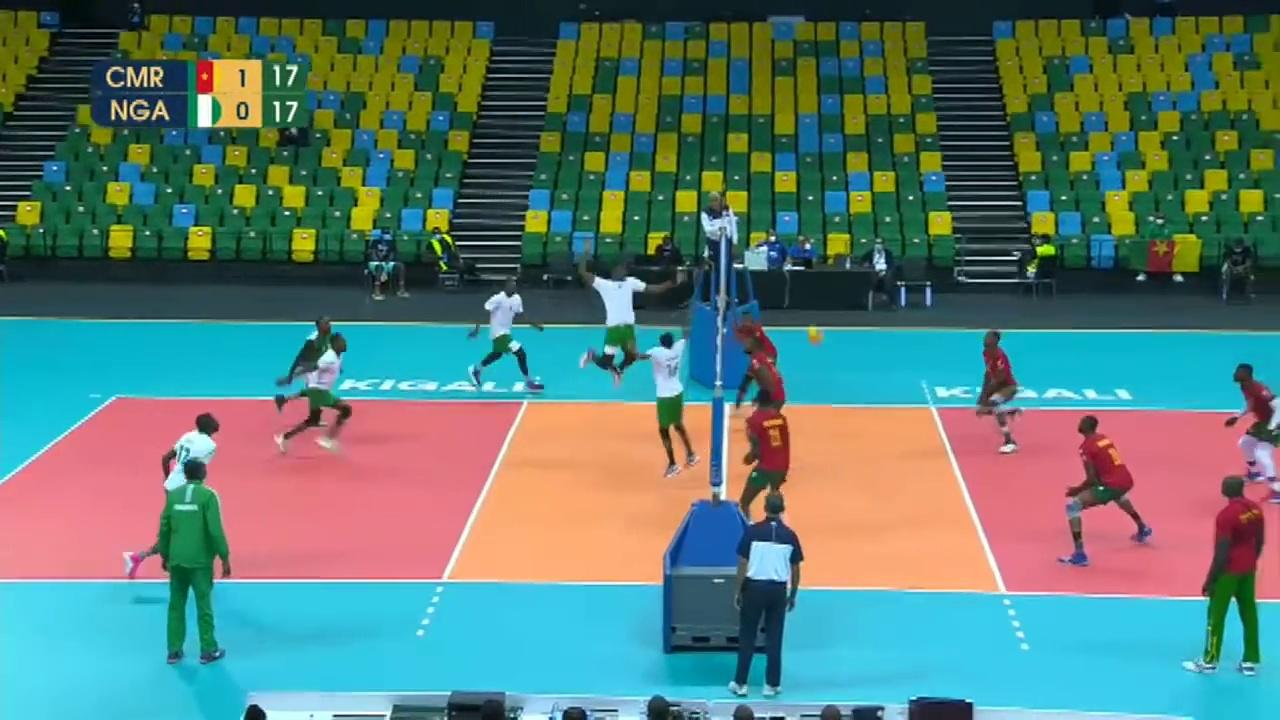player: (126, 412, 220, 581), (1059, 418, 1155, 560), (576, 244, 676, 379), (631, 332, 701, 478), (279, 334, 349, 457), (462, 281, 539, 392), (1226, 364, 1280, 501), (276, 319, 336, 429), (742, 339, 787, 476), (745, 391, 789, 530), (737, 313, 781, 449), (975, 331, 1022, 454)
refree: (731, 489, 807, 703), (704, 190, 739, 298)
